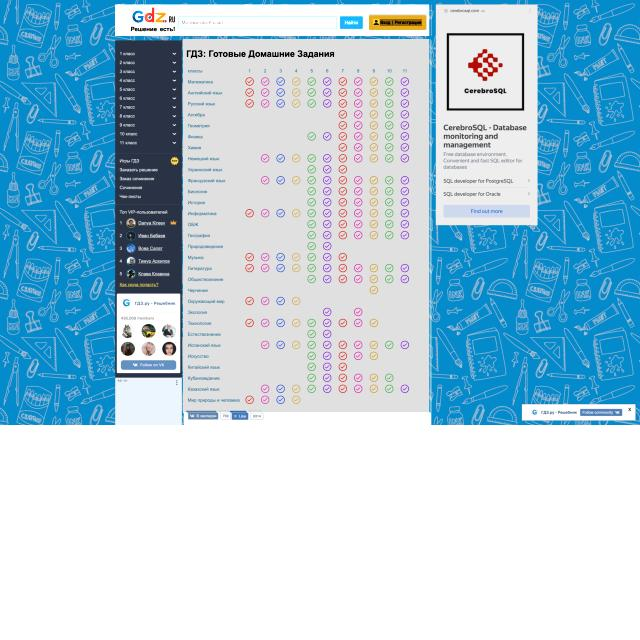CheckBox: (371, 14, 429, 30), (342, 16, 365, 29)
CheckedTextView: (180, 16, 340, 30)
ImageView: (436, 4, 537, 226), (118, 293, 180, 373)
TextView: (184, 39, 432, 413)
bag: (116, 4, 432, 36)
carousel: (375, 19, 381, 26)
data feed: (382, 19, 424, 26), (346, 20, 361, 25)
date picker: (131, 6, 178, 34)
footer: (183, 20, 228, 25)
